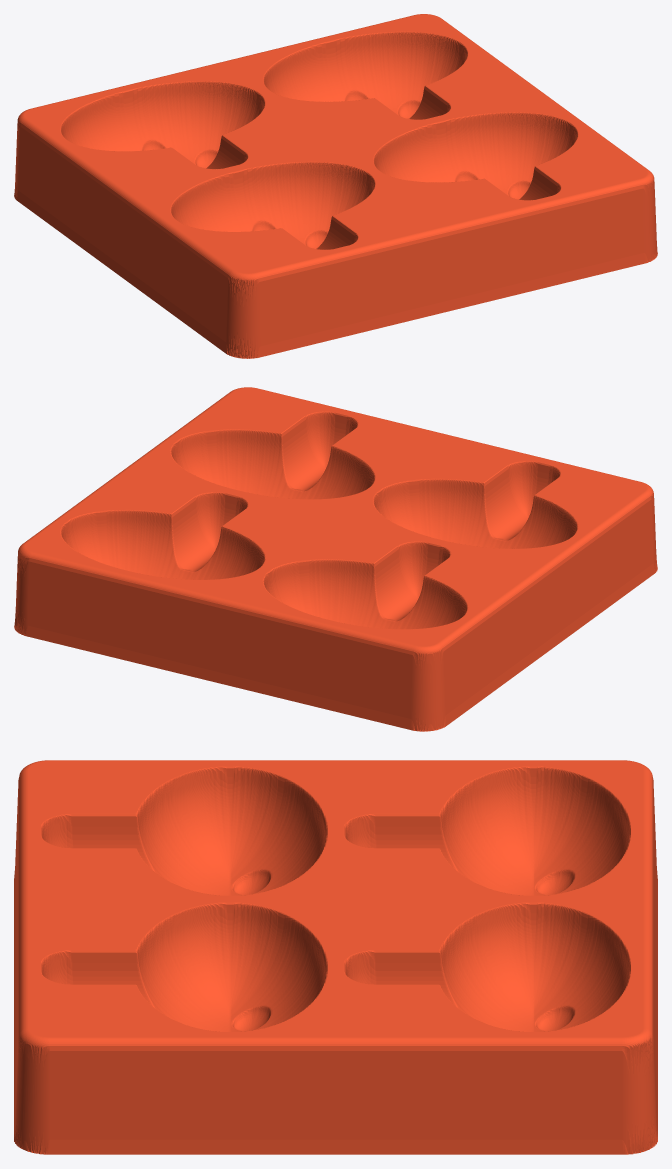
File: mold.glb
The picture shows the model from 3 angles, top to bottom: view 1: azimuth 30°, elevation 25°; view 2: azimuth 150°, elevation 25°; view 3: azimuth 270°, elevation 25°; orthographic projection. The views are drawn at different scales.
Parts seen in each view (by area): view 1: geometry_0; view 2: geometry_0; view 3: geometry_0.
Boxes of the visible parts, x1=… form: geometry_0: x1=14, y1=14, x2=657, y2=358; geometry_0: x1=14, y1=387, x2=657, y2=731; geometry_0: x1=14, y1=760, x2=657, y2=1154.
Bounding box in the file's own units: 0.1721 × 0.031 × 0.1625.
